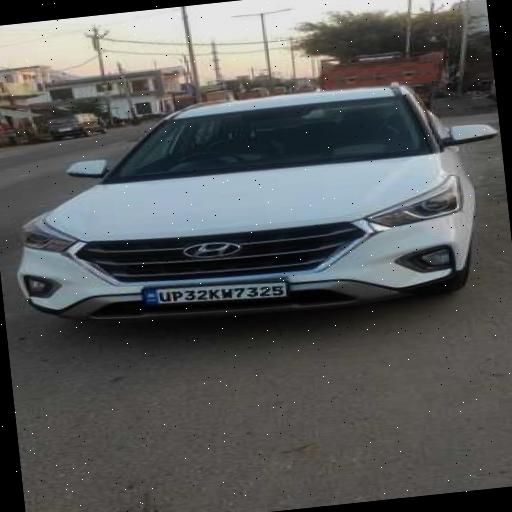license_plate`: (142, 272, 289, 312)
